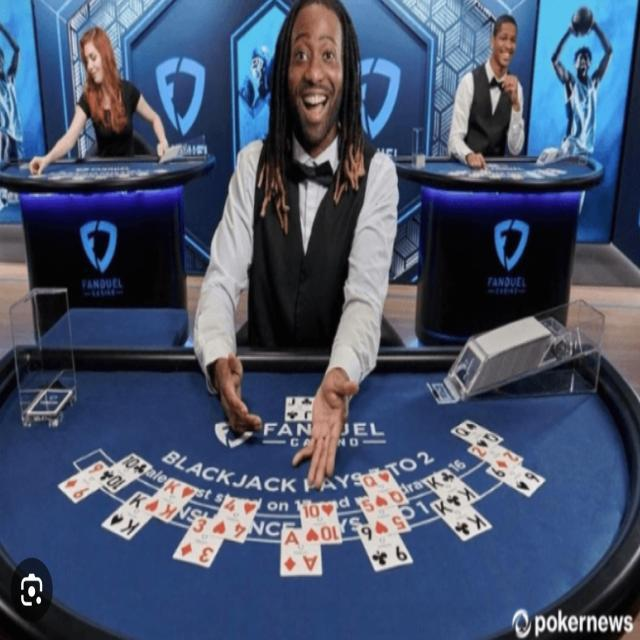Card-10: (97, 452, 151, 494), (300, 501, 339, 542)
Card-2: (469, 443, 522, 466)
Card-3: (173, 514, 225, 565)
Card-4: (211, 494, 259, 543)
Card-5: (358, 499, 411, 539)
Card-6: (486, 464, 544, 498)
Card-9: (358, 520, 412, 574), (56, 456, 108, 504)
Card-A: (281, 528, 321, 576)
Card-J: (284, 395, 316, 423)
Card-K: (432, 499, 492, 541), (103, 490, 152, 539), (144, 477, 197, 522), (420, 469, 481, 507)
Card-Q: (359, 467, 410, 507), (450, 420, 502, 447)
